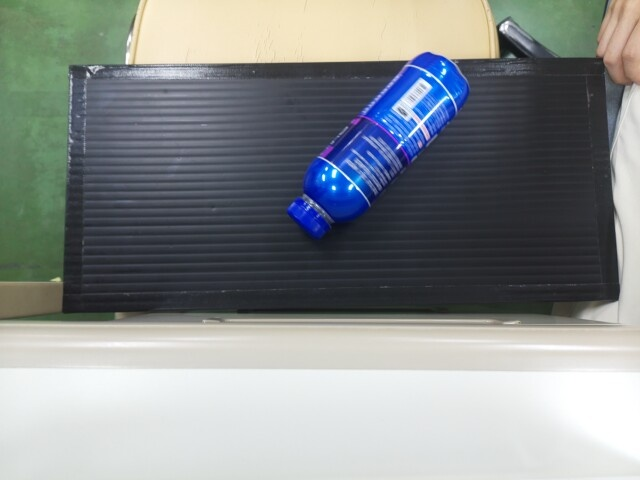plastic_bottle: (297, 47, 473, 237)
